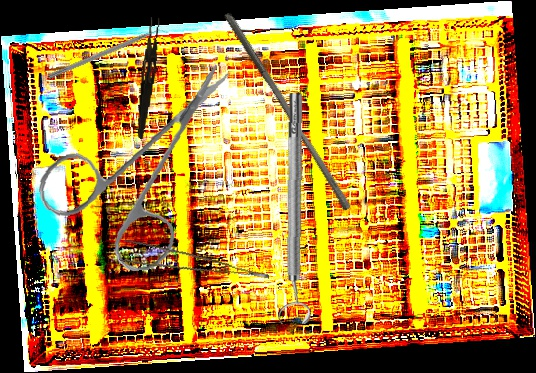Chopper: (47, 24, 170, 86)
Dressing Forceps: (135, 16, 161, 140)
Fixation Ring: (274, 92, 317, 325)
Iris Scissors: (28, 63, 250, 281)
Pusher: (215, 11, 359, 212)
Tissue Forceps: (118, 231, 270, 304)
